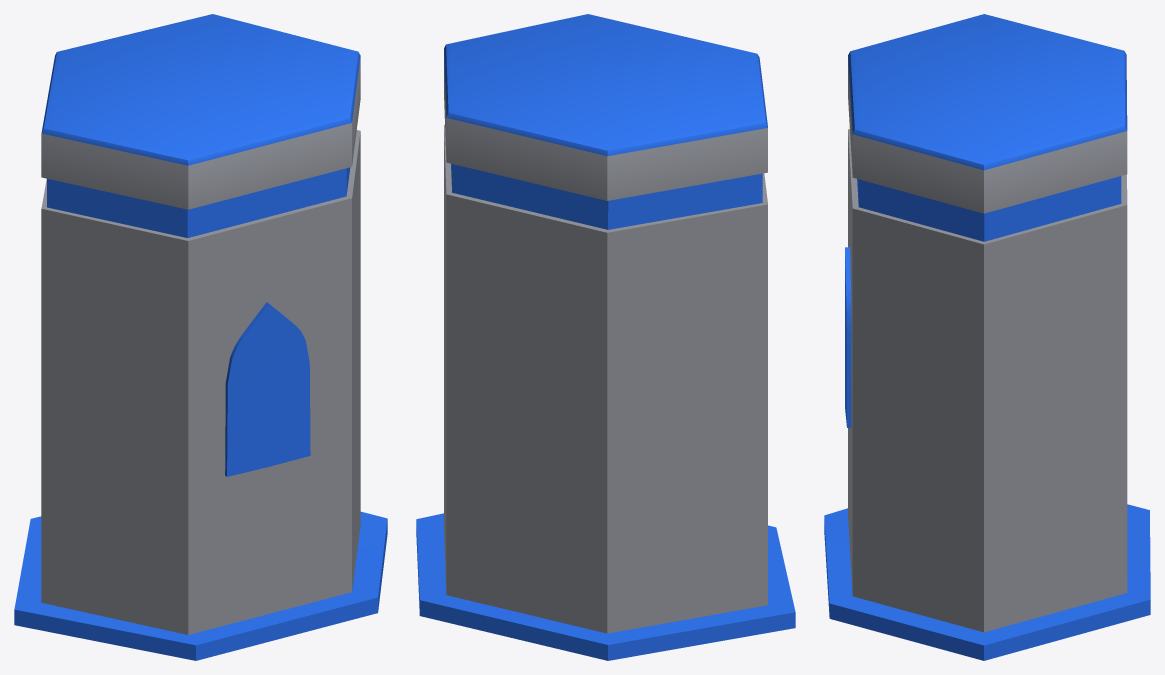
Rendered from BLUE CASTLE.fbx.
3 views of the same model, side by side, from view 1: azimuth 30°, elevation 25°; view 2: azimuth 150°, elevation 25°; view 3: azimuth 270°, elevation 25° (orthographic). The views are drawn at different scales.
Visible parts, largest first — view 1: Circle.001; view 2: Circle.001; view 3: Circle.001.
Part boxes in pixels (<box>): Circle.001: <box>14,14,387,660</box>; Circle.001: <box>416,14,795,660</box>; Circle.001: <box>824,14,1150,660</box>.
Bounding box in the file's own units: 1.94 × 2.47 × 1.49.
